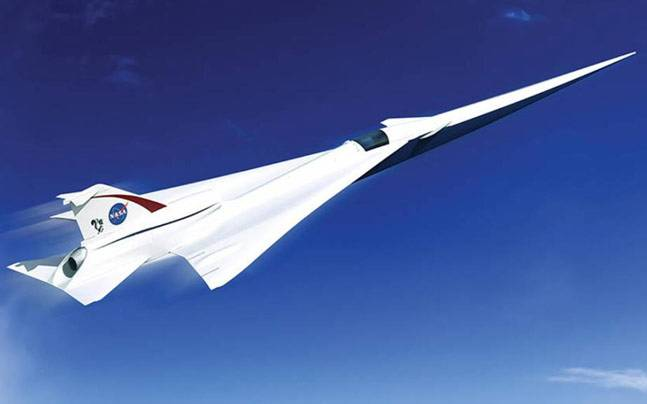NASA: (105, 200, 133, 226)
